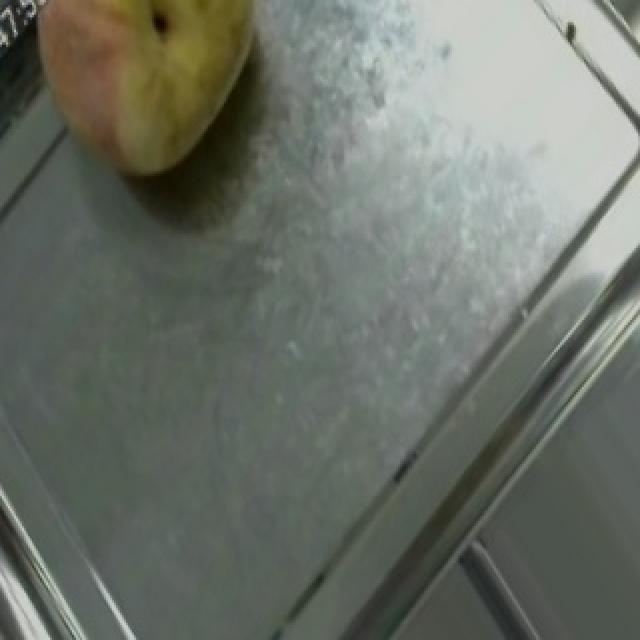Fruit: (0, 0, 302, 221)
